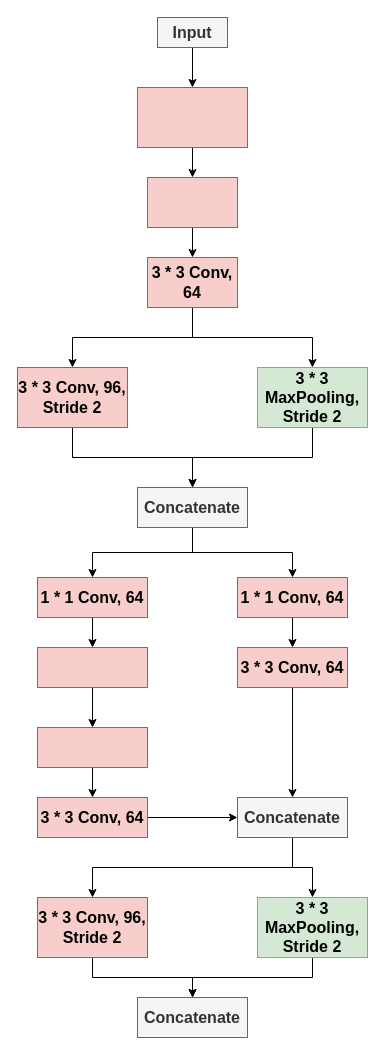
Image size: 385x1055. Some labels were removed from this diagram. Here are the shapes that lost their labels. From the top down, the centre of each, then its label:
(x=192, y=117): 3 * 3 Conv, 32, Stride 2
(x=192, y=202): 3 * 3 Conv, 32
(x=92, y=667): 1 * 7 Conv, 64
(x=92, y=747): 7 * 1 Conv, 64
